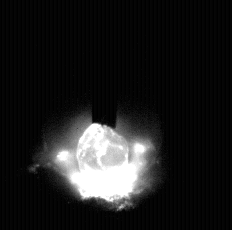arame: (92, 0, 118, 128)
poca: (43, 0, 163, 230)
